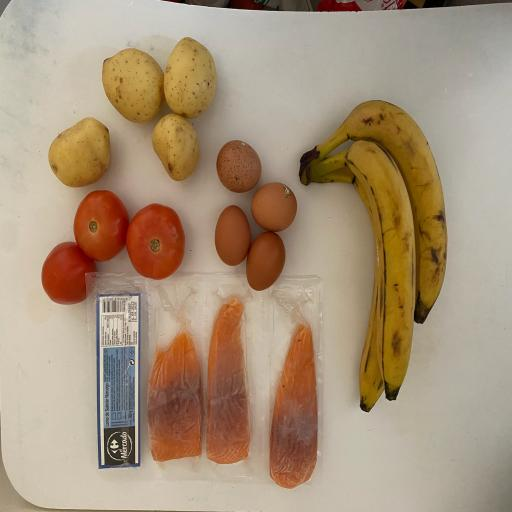banana: (295, 93, 453, 329), (300, 136, 420, 404), (299, 162, 404, 418)
egg: (213, 136, 267, 196), (244, 226, 287, 295), (249, 177, 299, 236), (212, 202, 252, 271)
potato: (43, 113, 119, 191), (98, 44, 168, 128), (162, 32, 220, 120), (149, 110, 206, 189)
salmon: (265, 319, 324, 491), (202, 292, 253, 470), (145, 321, 205, 470)
tomato: (124, 197, 189, 285), (70, 186, 132, 268), (39, 236, 100, 311)
